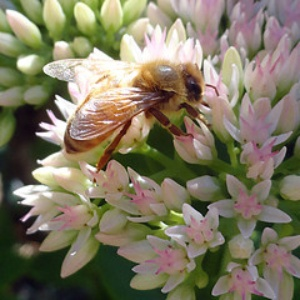bee: (62, 60, 212, 160)
